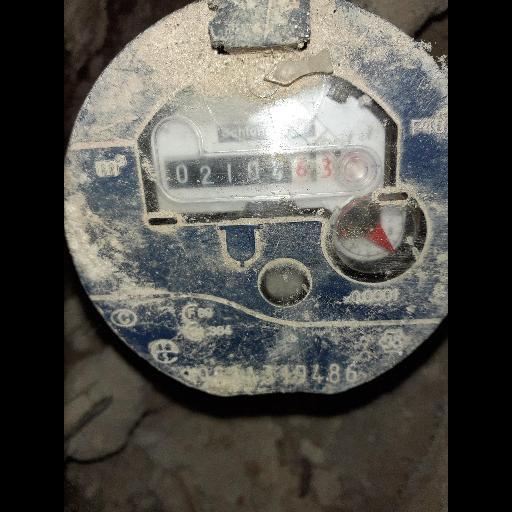0: (241, 154, 266, 186), (172, 159, 193, 190)
1: (219, 155, 241, 187)
2: (194, 158, 219, 189)
3: (315, 151, 336, 181)
4: (267, 153, 292, 184)
6: (292, 152, 313, 182)
border_water_meter_number: (155, 144, 384, 205)
